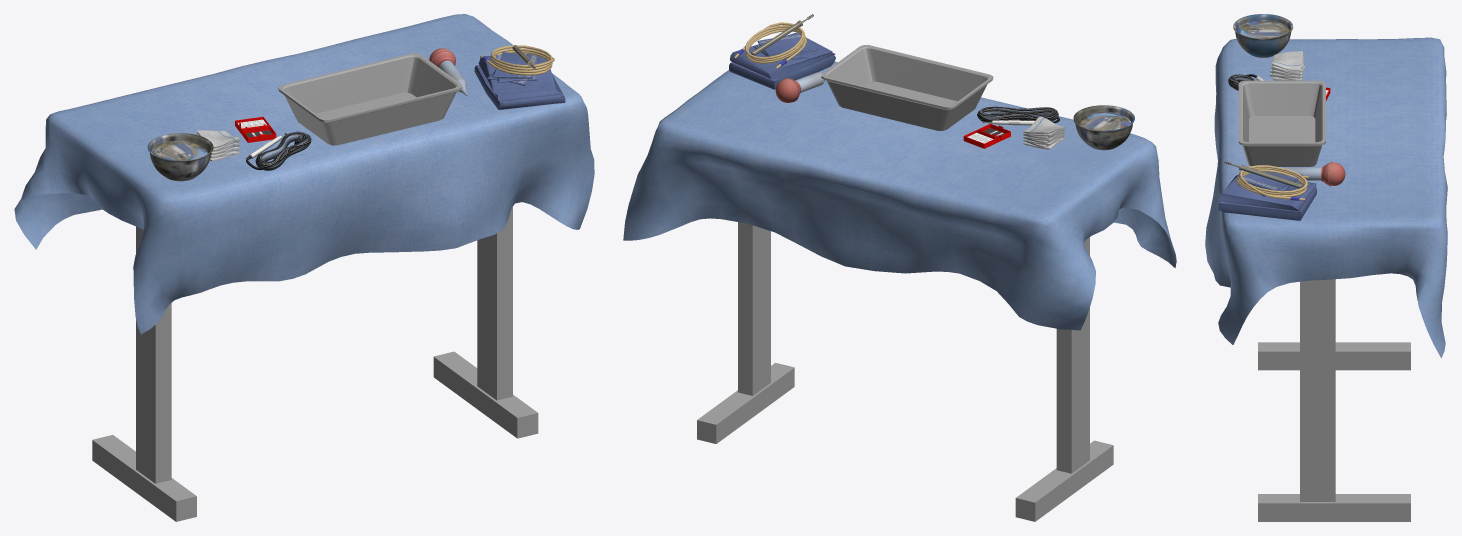
Rendered from StaticStage_UnityModel.fbx.
3 views of the same model, side by side, from view 1: azimuth 30°, elevation 25°; view 2: azimuth 150°, elevation 25°; view 3: azimuth 270°, elevation 25° (orthographic). The views are drawn at different scales.
Parts seen in each view (by area): view 1: Geo_TableDrapeStatic_01, Geo_TableLegs_01, geo_Tray_01, Geo_LargeDrapes_01, Geo_SalineBowl_01, Geo_SuctionTubing_01, Geo_CoiledCord_01, Geo_Saline_01, Geo_GauzeStack_01; view 2: Geo_TableDrapeStatic_01, Geo_TableLegs_01, geo_Tray_01, Geo_LargeDrapes_01, Geo_SalineBowl_01, Geo_SuctionTubing_01, Geo_CoiledCord_01, Geo_GauzeStack_01, Geo_Saline_01; view 3: Geo_TableDrapeStatic_01, Geo_TableLegs_01, geo_Tray_01, Geo_LargeDrapes_01, Geo_SalineBowl_01, Geo_SuctionTubing_01, Geo_GauzeStack_01, Geo_Saline_01, Geo_SmallDrape_A_01, Geo_BulbSyringe_01, Geo_SuctionTip_01, Geo_SyringeCylinder_01.
Boxes of the visible parts, bbox=[...] form: Geo_TableDrapeStatic_01: bbox=[14, 14, 594, 334]; Geo_TableLegs_01: bbox=[92, 206, 538, 521]; geo_Tray_01: bbox=[278, 53, 462, 145]; Geo_LargeDrapes_01: bbox=[474, 54, 565, 109]; Geo_SalineBowl_01: bbox=[147, 133, 213, 181]; Geo_SuctionTubing_01: bbox=[480, 45, 554, 75]; Geo_CoiledCord_01: bbox=[255, 131, 311, 170]; Geo_Saline_01: bbox=[151, 141, 207, 160]; Geo_GauzeStack_01: bbox=[196, 130, 239, 160]; Geo_TableDrapeStatic_01: bbox=[623, 61, 1176, 330]; Geo_TableLegs_01: bbox=[697, 222, 1113, 521]; geo_Tray_01: bbox=[821, 45, 993, 130]; Geo_LargeDrapes_01: bbox=[729, 32, 835, 89]; Geo_SalineBowl_01: bbox=[1073, 105, 1134, 150]; Geo_SuctionTubing_01: bbox=[734, 22, 806, 68]; Geo_CoiledCord_01: bbox=[977, 106, 1058, 123]; Geo_GauzeStack_01: bbox=[1023, 116, 1064, 149]; Geo_Saline_01: bbox=[1078, 113, 1131, 130]; Geo_TableDrapeStatic_01: bbox=[1205, 37, 1447, 358]; Geo_TableLegs_01: bbox=[1258, 279, 1410, 521]; geo_Tray_01: bbox=[1238, 80, 1325, 166]; Geo_LargeDrapes_01: bbox=[1218, 174, 1316, 220]; Geo_SalineBowl_01: bbox=[1233, 14, 1293, 57]; Geo_SuctionTubing_01: bbox=[1237, 165, 1308, 200]; Geo_GauzeStack_01: bbox=[1270, 51, 1305, 80]; Geo_Saline_01: bbox=[1237, 20, 1289, 38]; Geo_SmallDrape_A_01: bbox=[1243, 172, 1296, 190]; Geo_BulbSyringe_01: bbox=[1321, 162, 1345, 186]; Geo_SuctionTip_01: bbox=[1224, 161, 1302, 188]; Geo_SyringeCylinder_01: bbox=[1285, 167, 1321, 180].
Bounding box in the file's own units: 148 × 110 × 68.81.
